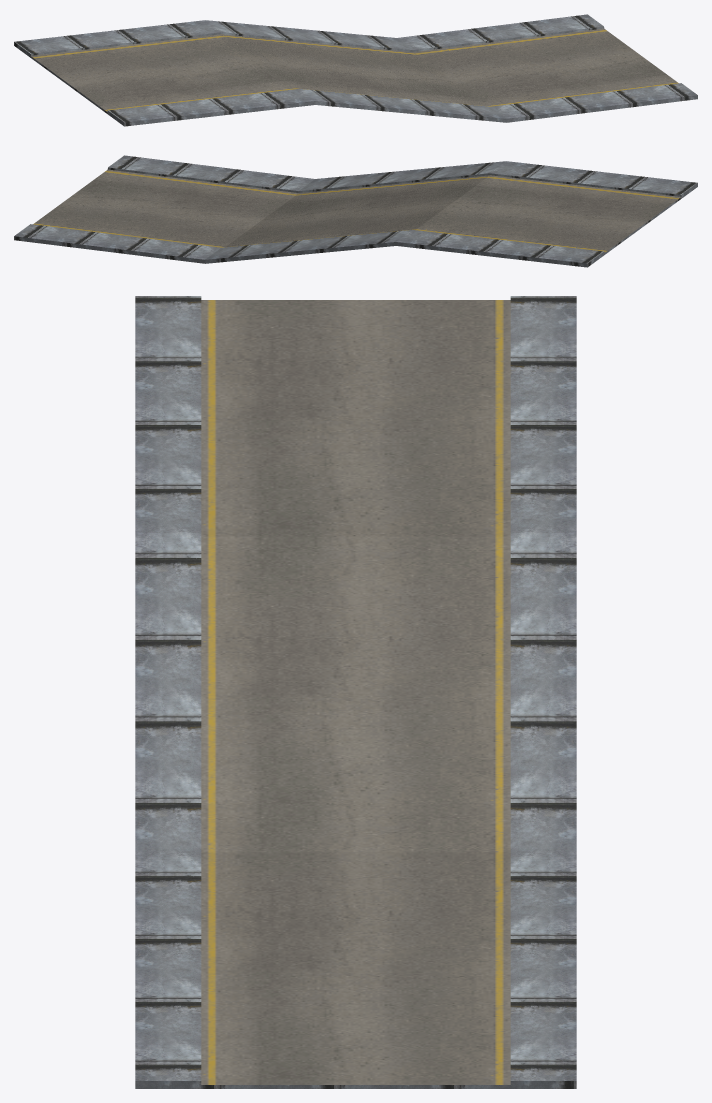
File: Urban_Road2Slope_Model.fbx
3 views of the same model, one above another, from view 1: azimuth 30°, elevation 25°; view 2: azimuth 150°, elevation 25°; view 3: azimuth 270°, elevation 25° (orthographic). The views are drawn at different scales.
Visible parts, largest first — view 1: Urban_Road2Slope_Mesh; view 2: Urban_Road2Slope_Mesh; view 3: Urban_Road2Slope_Mesh.
Boxes of the visible parts, <box> form: Urban_Road2Slope_Mesh: <box>14,14,697,126</box>; Urban_Road2Slope_Mesh: <box>14,155,697,267</box>; Urban_Road2Slope_Mesh: <box>135,296,576,1088</box>.
Size of the model in its own units: 48 by 9.32 by 16.
